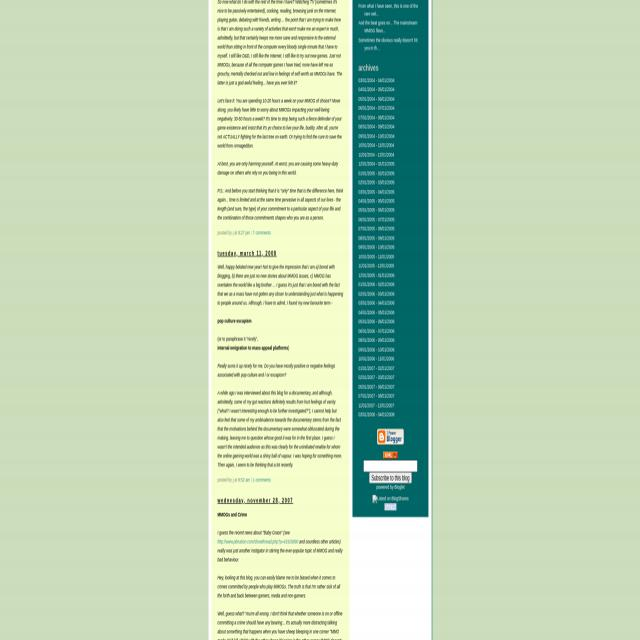button: (369, 474, 412, 485), (377, 430, 404, 447), (372, 496, 409, 505), (383, 454, 398, 461), (385, 504, 396, 512)
field: (363, 462, 418, 473)
